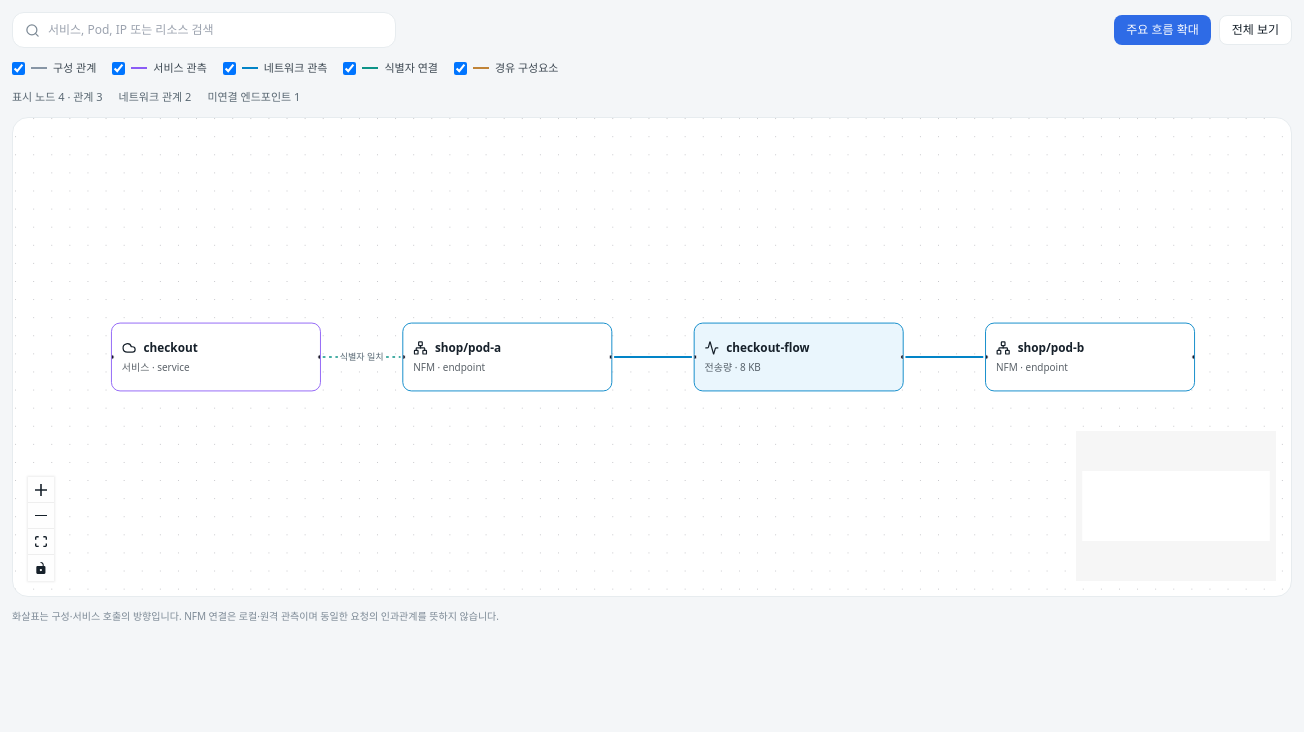
E2eGraphCanvas › filters network relations without changing the underlying observation graph
Expected: the text with test id "e2e-network-edge-count" reads "2", [185, 88, 191, 104]
Step 1. Click the checkbox labelled "네트워크 관측" → [229, 68], box [223, 62, 236, 75]
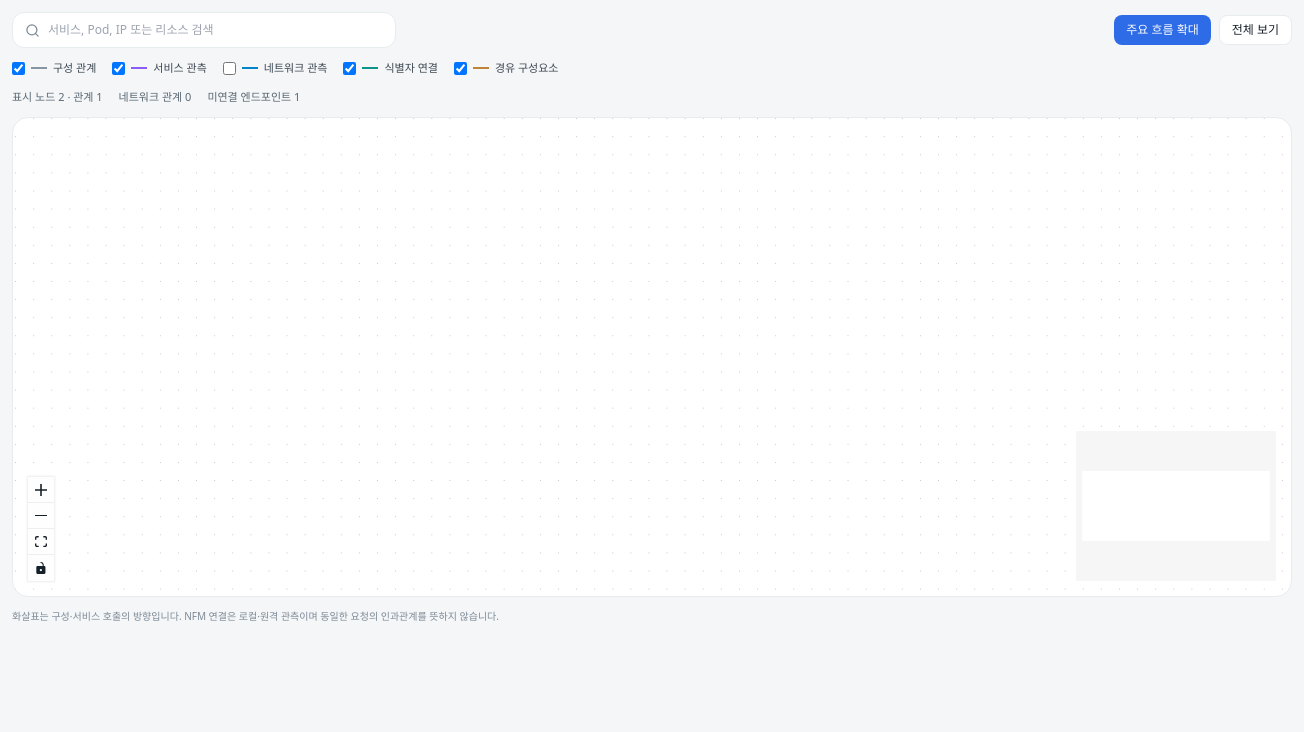
Now the text with test id "e2e-network-edge-count" reads "0", box [185, 88, 191, 104]
